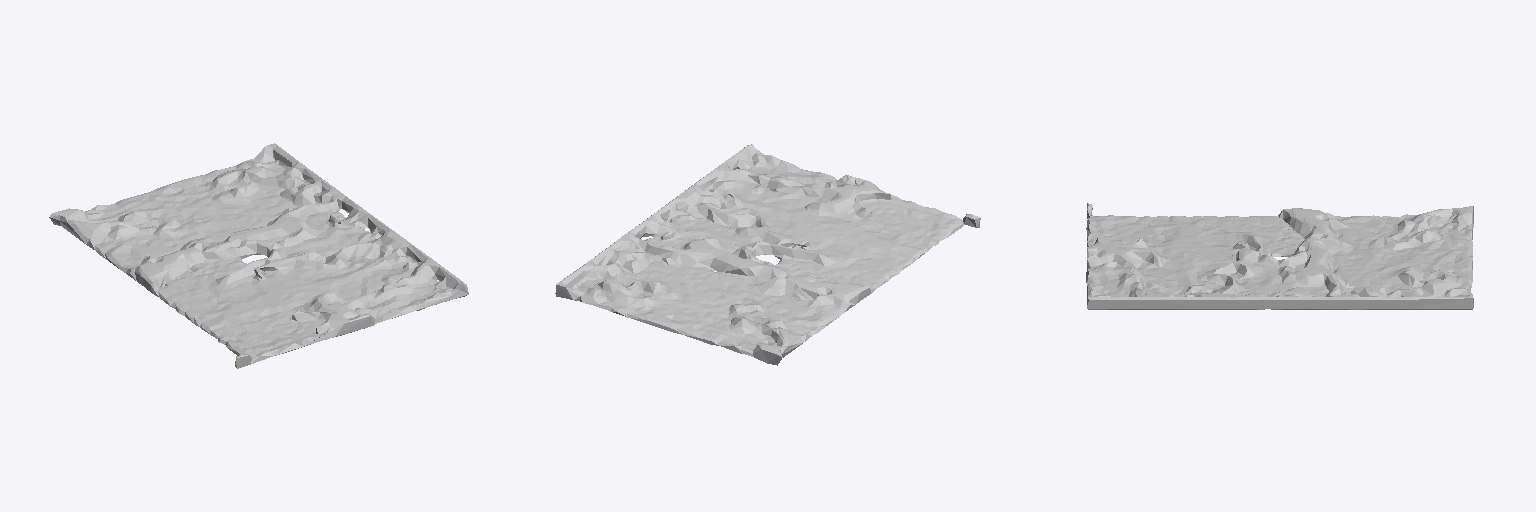
3 renders of one model, left to right at view 1: azimuth 30°, elevation 25°; view 2: azimuth 150°, elevation 25°; view 3: azimuth 270°, elevation 25°, orthographic.
Parts seen in each view (by area): view 1: Liquid_Domain; view 2: Liquid_Domain; view 3: Liquid_Domain.
Boxes of the visible parts, box(x1,y1,x2,y2) form: Liquid_Domain: box(49, 143, 468, 368); Liquid_Domain: box(555, 144, 980, 365); Liquid_Domain: box(1086, 203, 1473, 309).
Bounding box in the file's own units: 117 × 13.86 × 168.